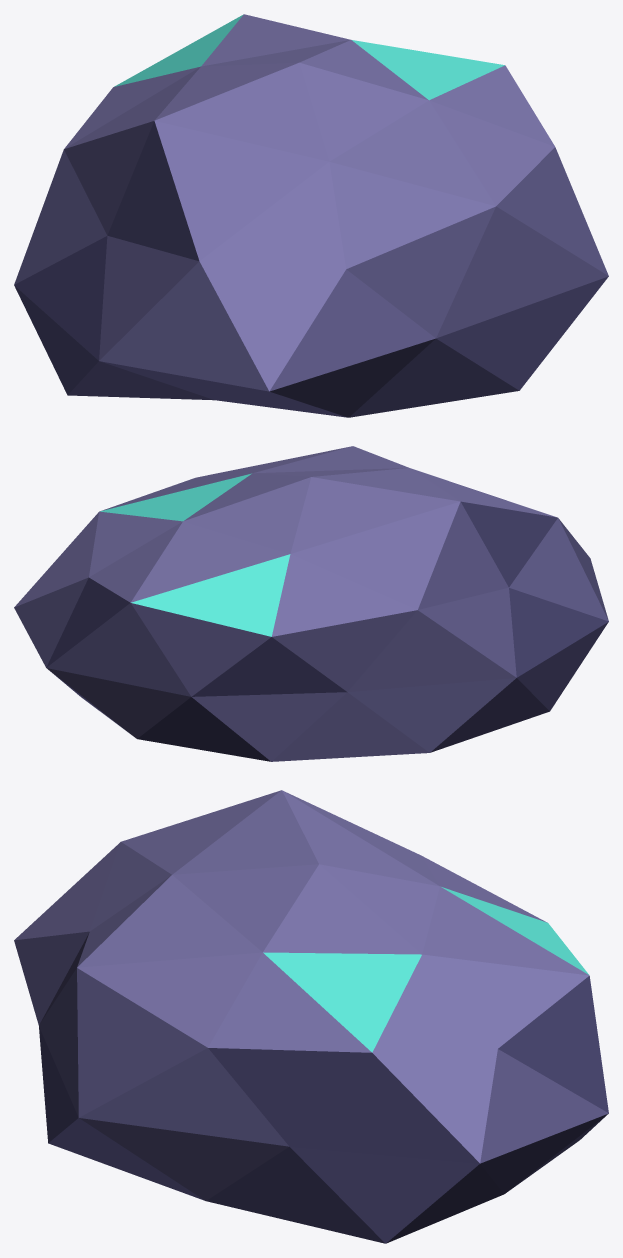
File: rock_boulder_b_deep.fbx
The picture shows the model from 3 angles, top to bottom: view 1: azimuth 30°, elevation 25°; view 2: azimuth 150°, elevation 25°; view 3: azimuth 270°, elevation 25°; orthographic projection. The views are drawn at different scales.
Visible parts, largest first — view 1: rock_boulder_b_deep; view 2: rock_boulder_b_deep; view 3: rock_boulder_b_deep.
Part boxes in pixels (x1=…): rock_boulder_b_deep: x1=14, y1=14, x2=608, y2=417; rock_boulder_b_deep: x1=14, y1=446, x2=608, y2=761; rock_boulder_b_deep: x1=14, y1=790, x2=608, y2=1243.
Size of the model in its own units: 1327 by 543 by 1218.
1 material, 1 textured.
